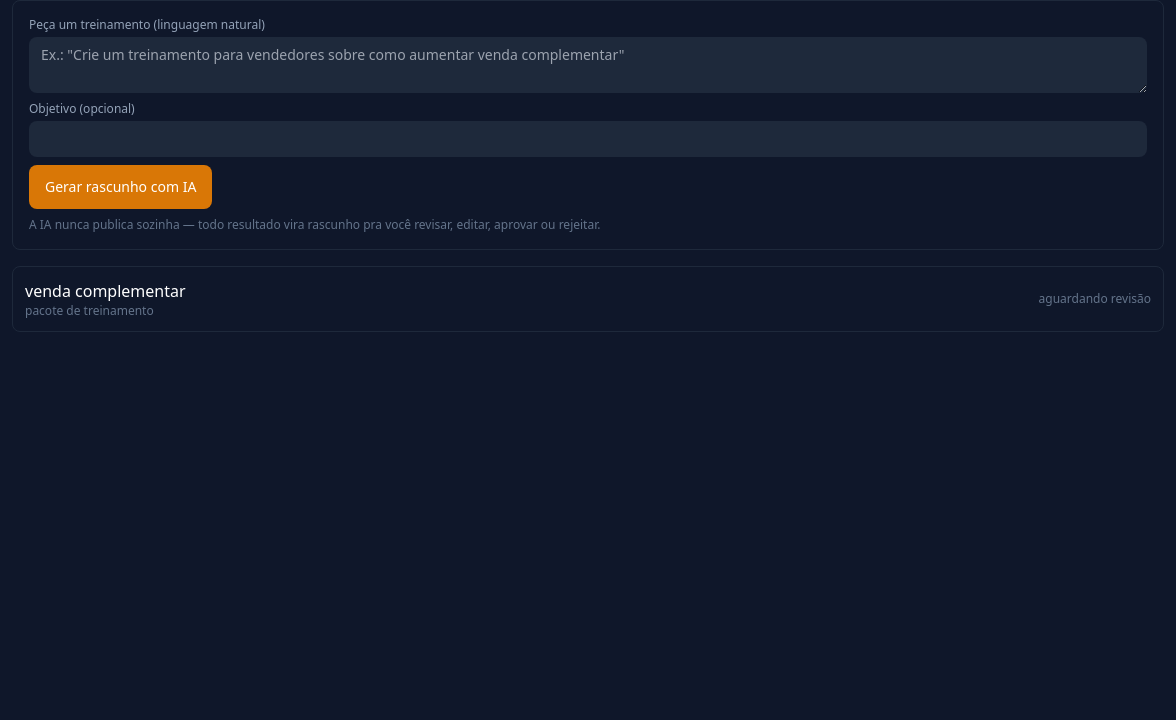
Test case: AbaTreinamentoIA › lista jobs e abre o detalhe com o rascunho gerado, mostrando ações de revisão
Click the text "venda complementar" at (105, 291), box left=25, top=279, right=186, bottom=303
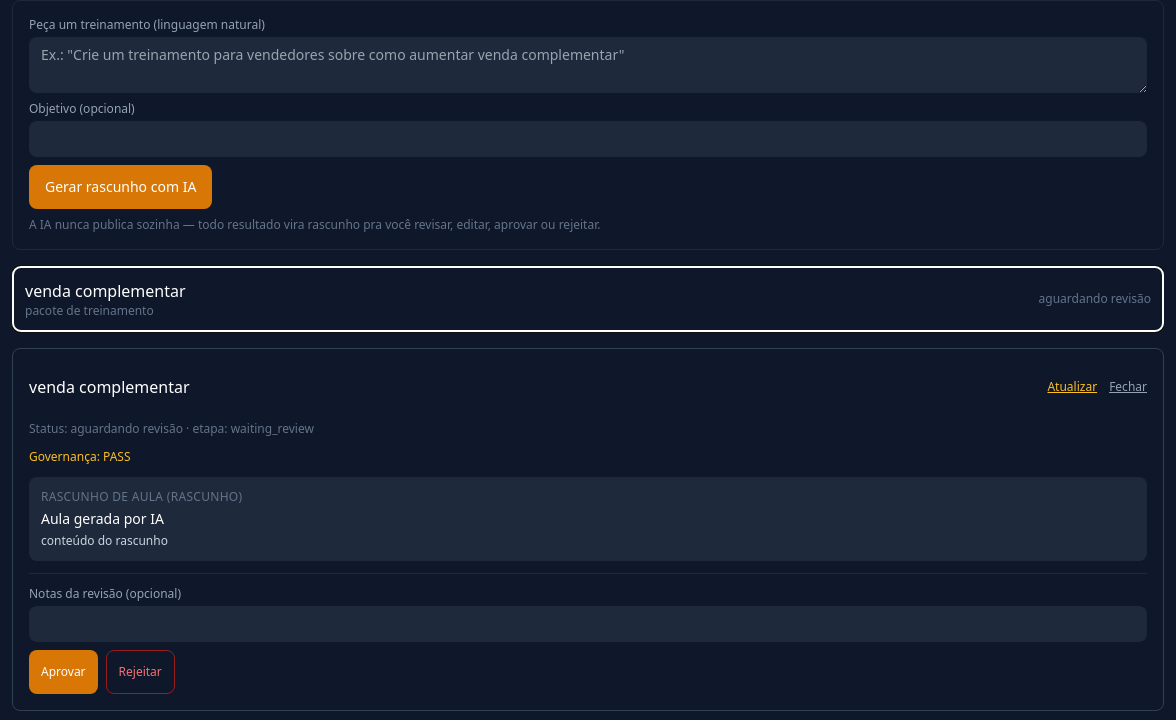
Expected: the button "Aprovar" is shown, left=29, top=650, right=98, bottom=694
Expected: the button "Rejeitar" is shown, left=106, top=650, right=175, bottom=694
